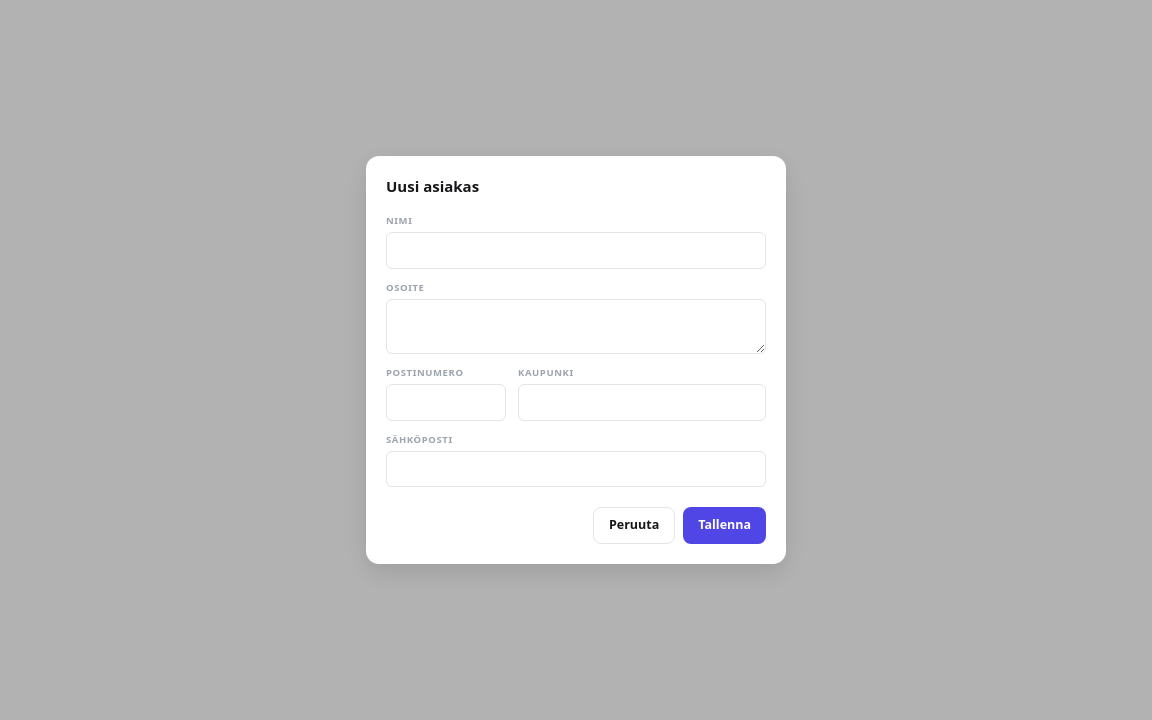
Scenario: KumppaniDialog › vaatii nimen eikä tallenna ilman sitä
Click the button "Tallenna" at (725, 526), box left=683, top=508, right=766, bottom=544
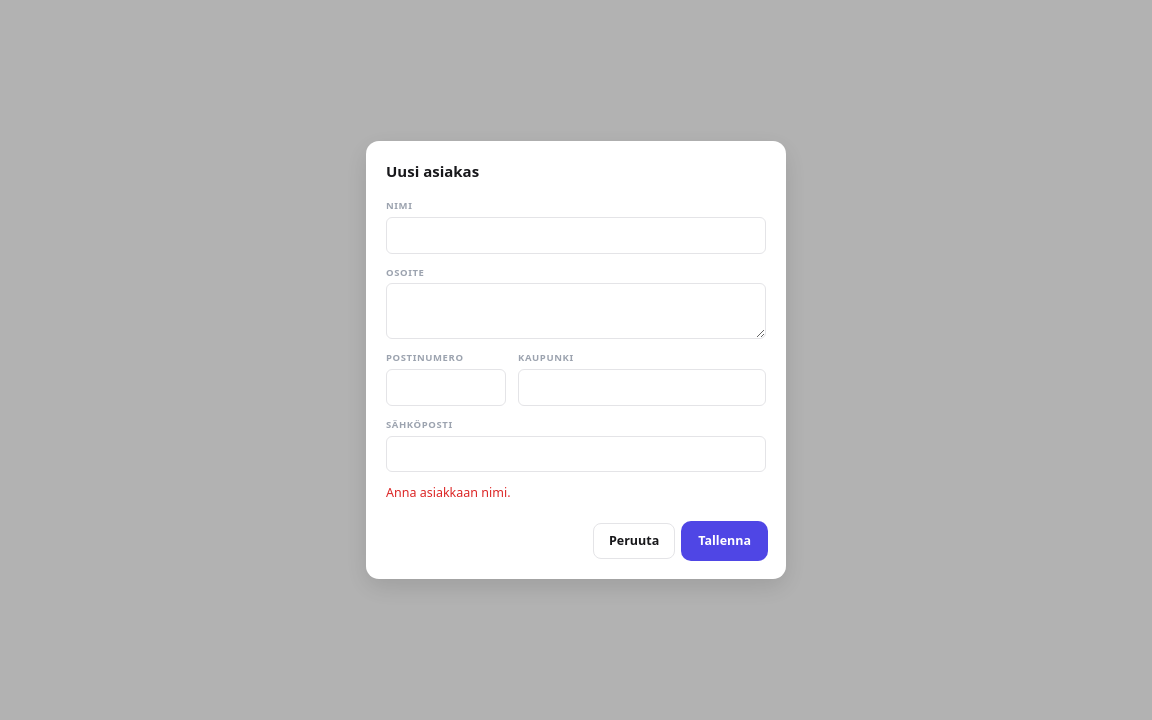
Expected: the text "Anna asiakkaan nimi." is shown, left=386, top=484, right=510, bottom=501
